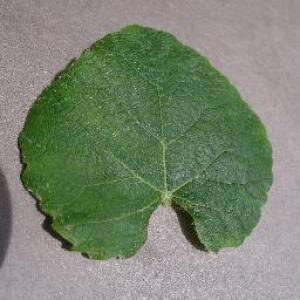Folha: (16, 22, 273, 260)
